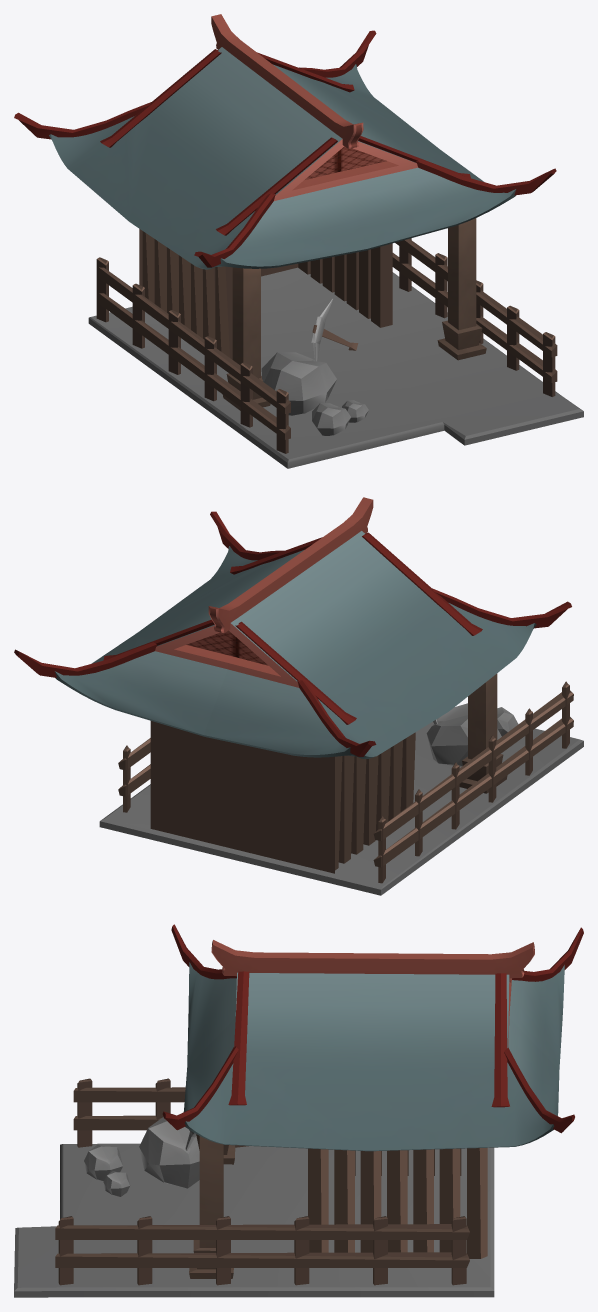
The model's file is mine_2lvl.fbx.
3 renders of one model, top to bottom at view 1: azimuth 30°, elevation 25°; view 2: azimuth 150°, elevation 25°; view 3: azimuth 270°, elevation 25°, orthographic. The views are drawn at different scales.
Visible parts, largest first — view 1: mine_2lvl; view 2: mine_2lvl; view 3: mine_2lvl.
Boxes of the visible parts, x1,y1,x2,y2 form: mine_2lvl: (14, 14, 583, 468); mine_2lvl: (14, 497, 583, 895); mine_2lvl: (14, 924, 583, 1297).
Size of the model in its own units: 5.26 by 3.58 by 6.52.
